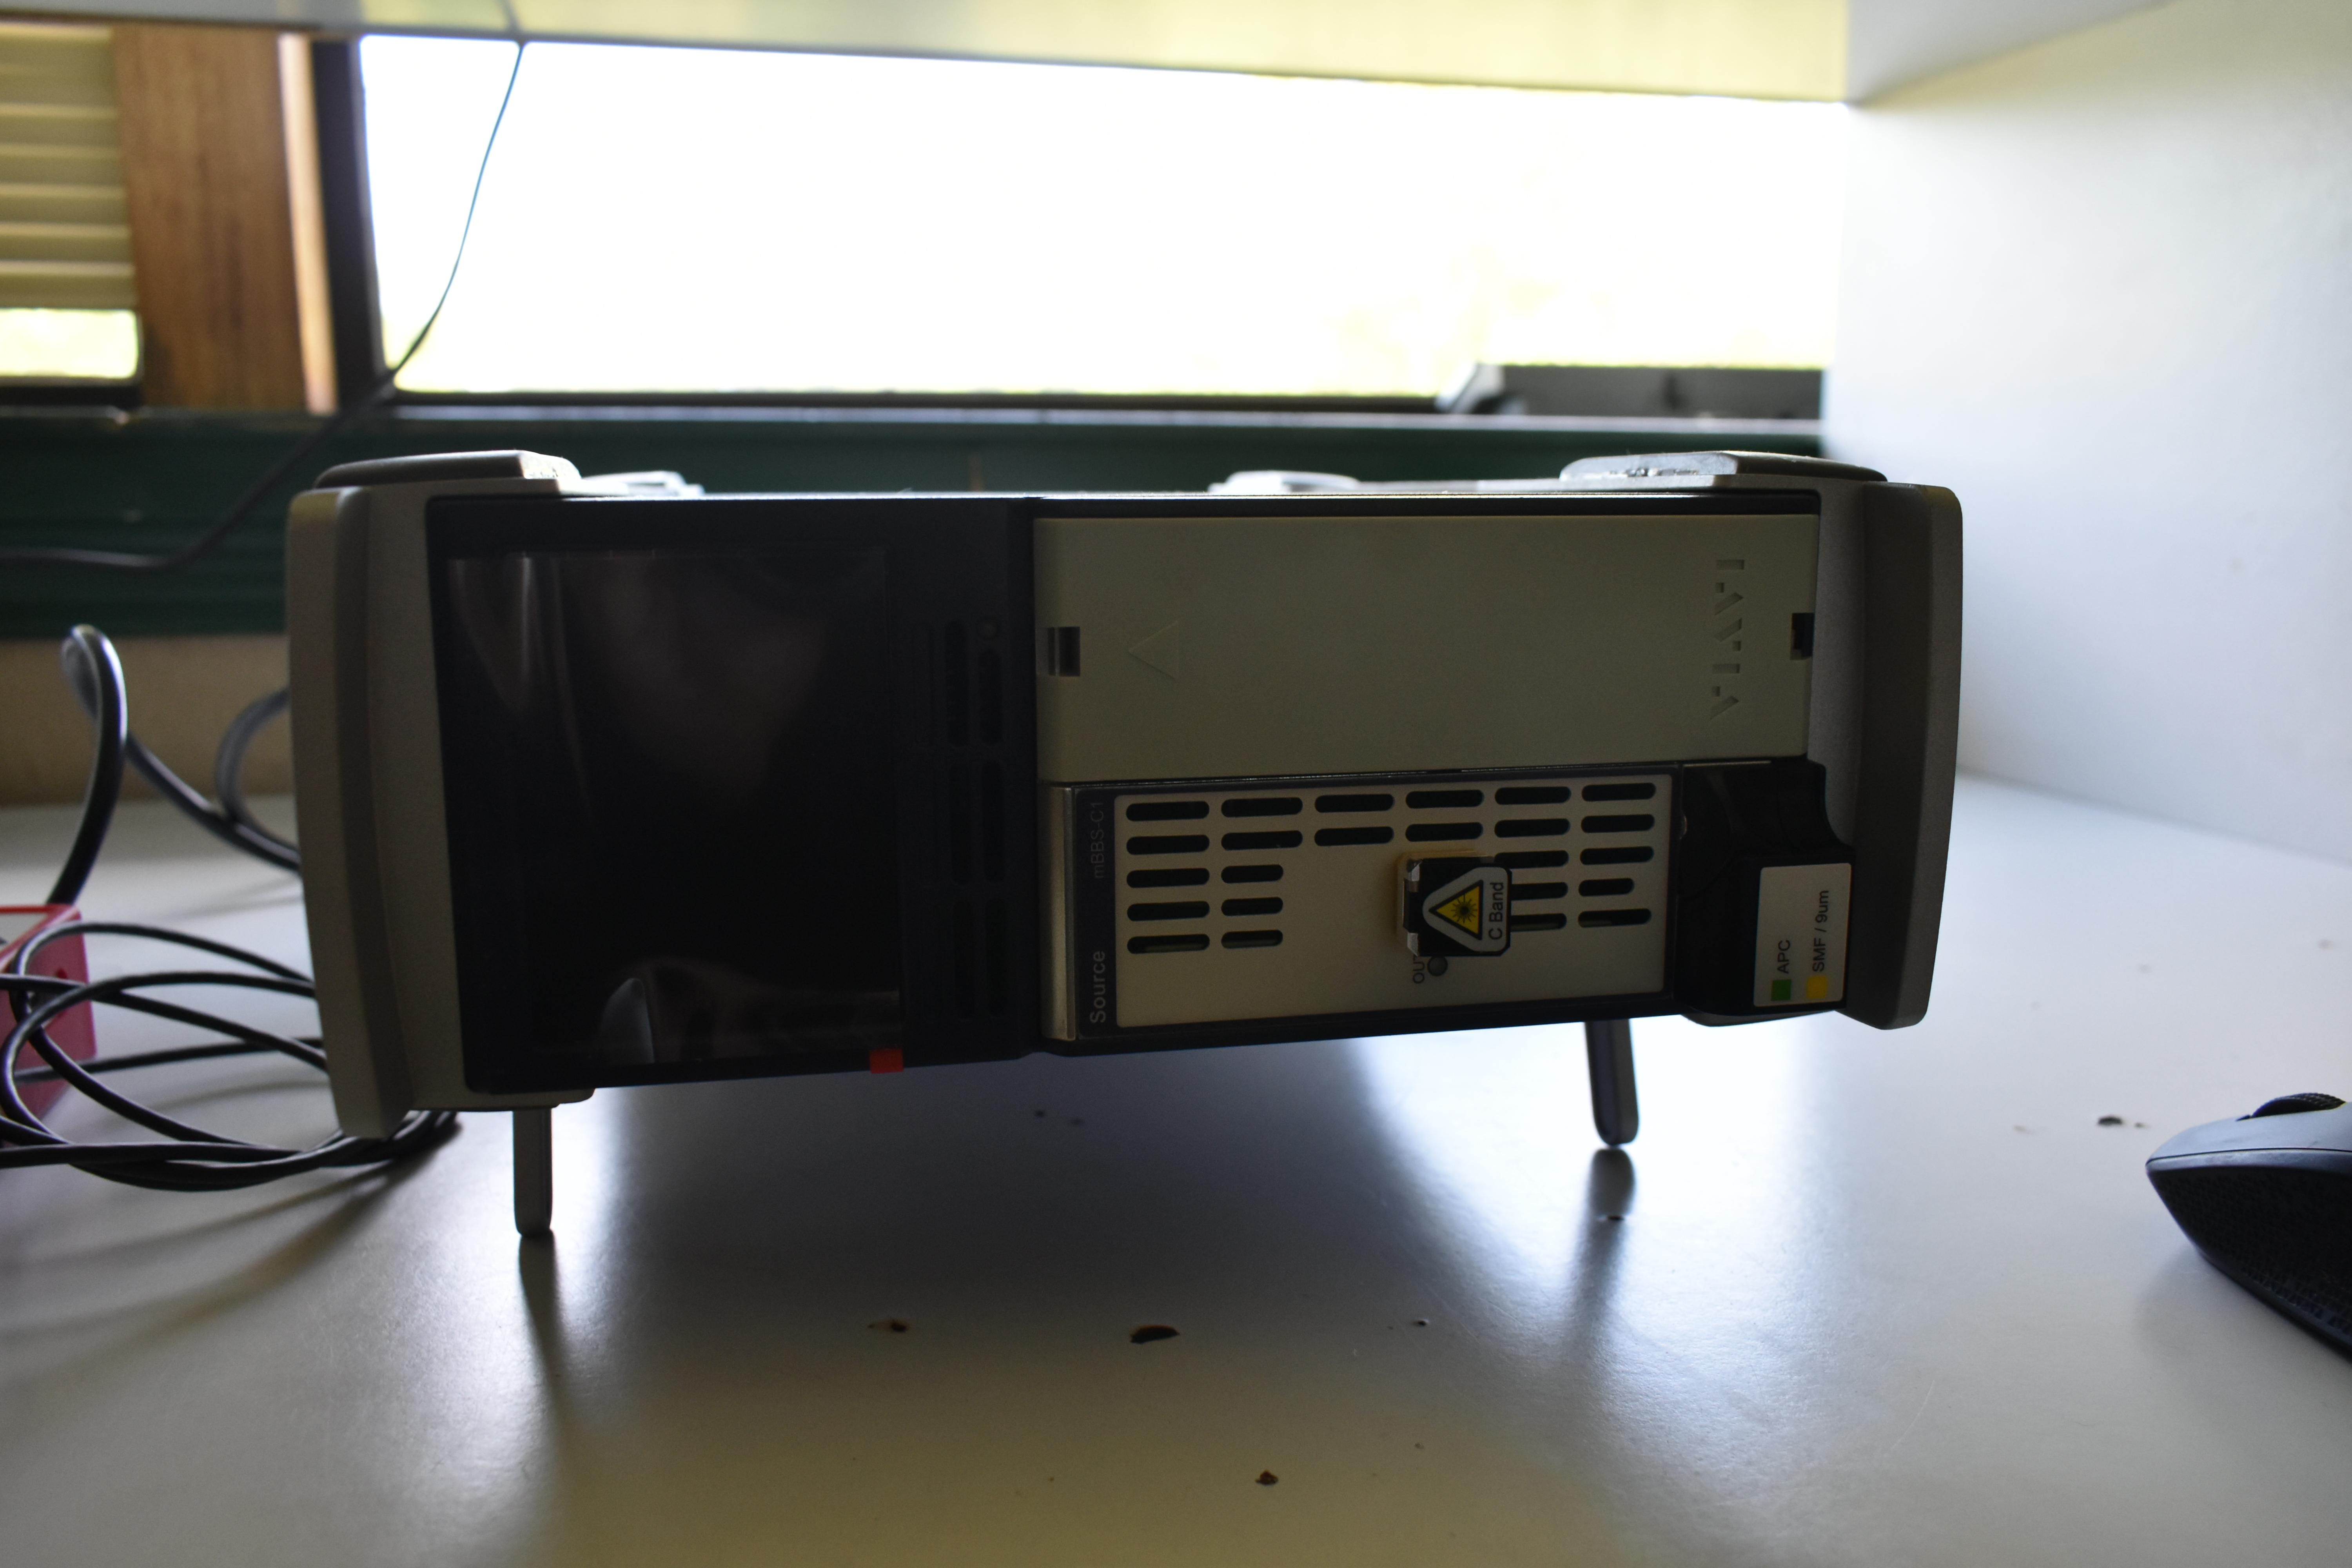laser: (301, 439, 1972, 1243)
